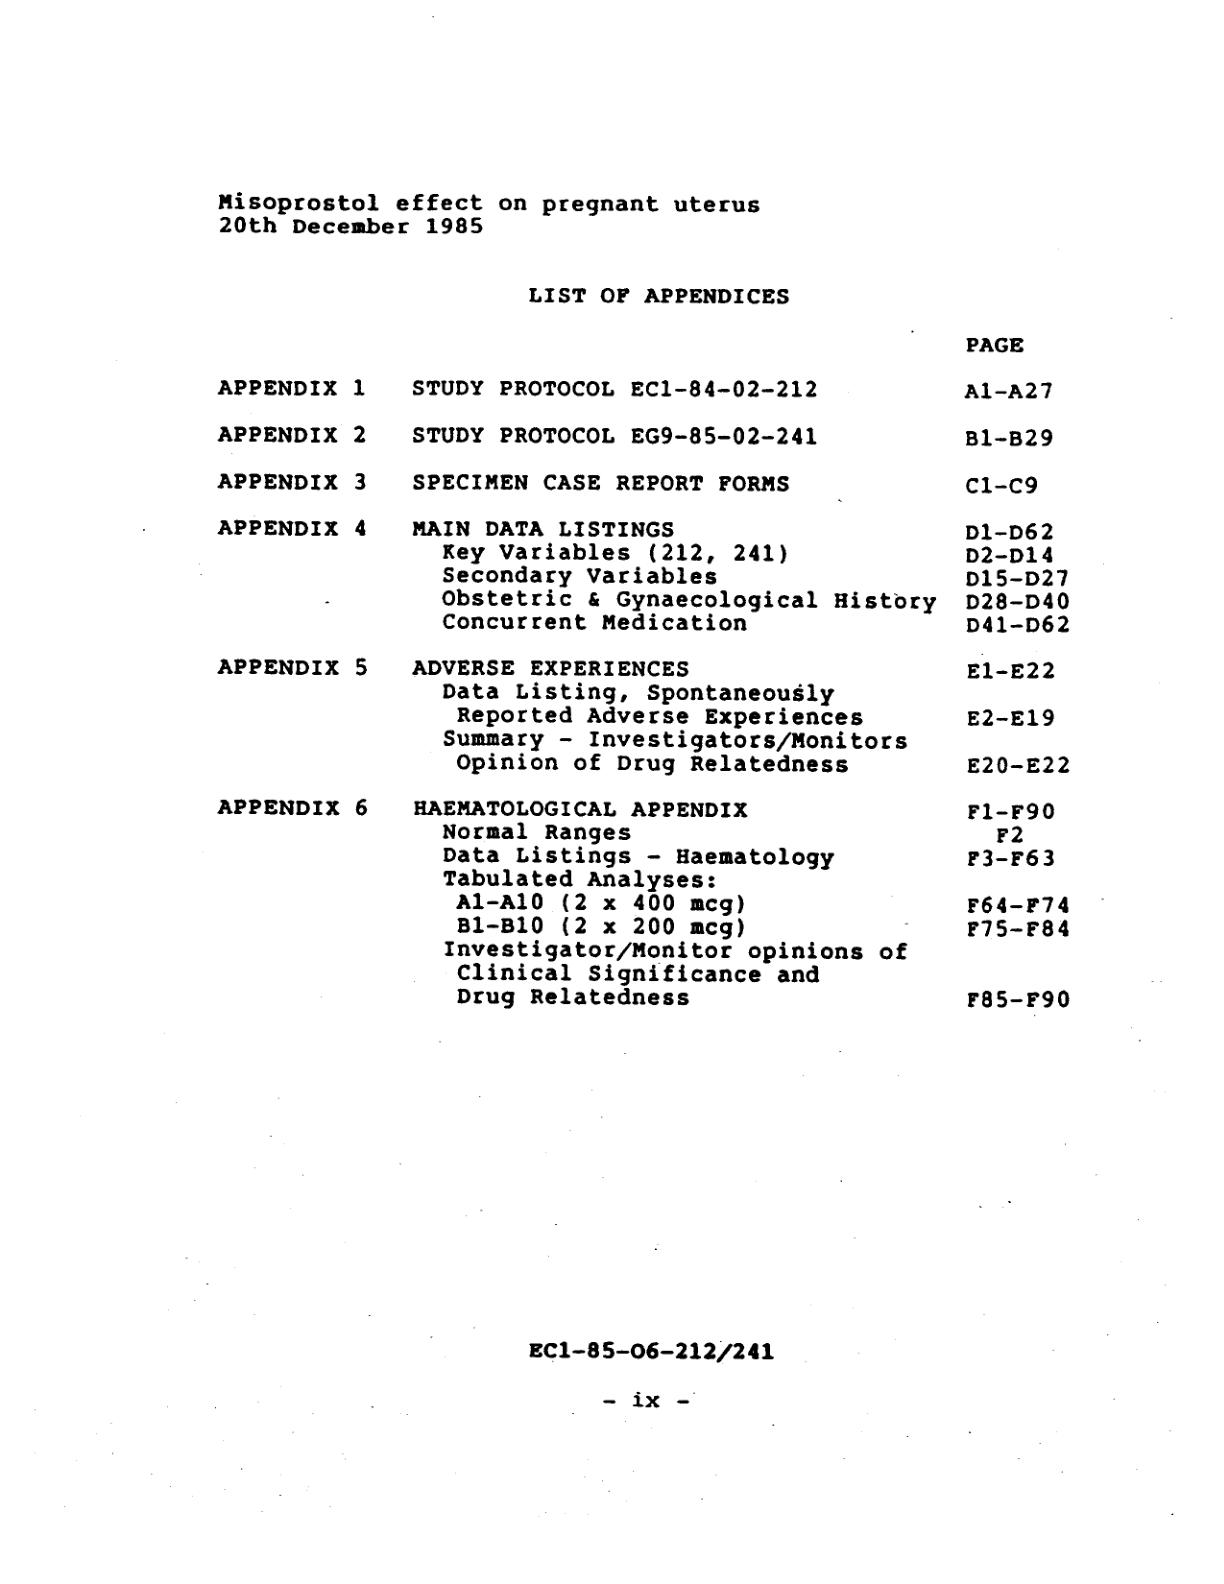nolines: (216, 336, 1072, 1009)
